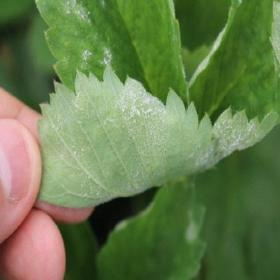Powdery Mildew Leaf: (37, 64, 214, 209), (33, 0, 189, 110), (187, 0, 279, 172)
